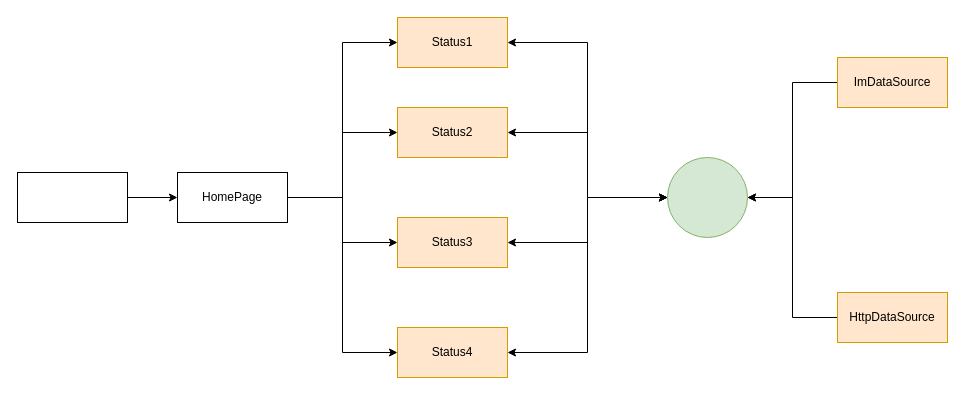
Some shapes in this 965 by 395 pixel diagram are drawn without their labels. Each missing label, with the box of its shape:
App Instance: (16, 172, 128, 222)
Event: (666, 156, 748, 238)
